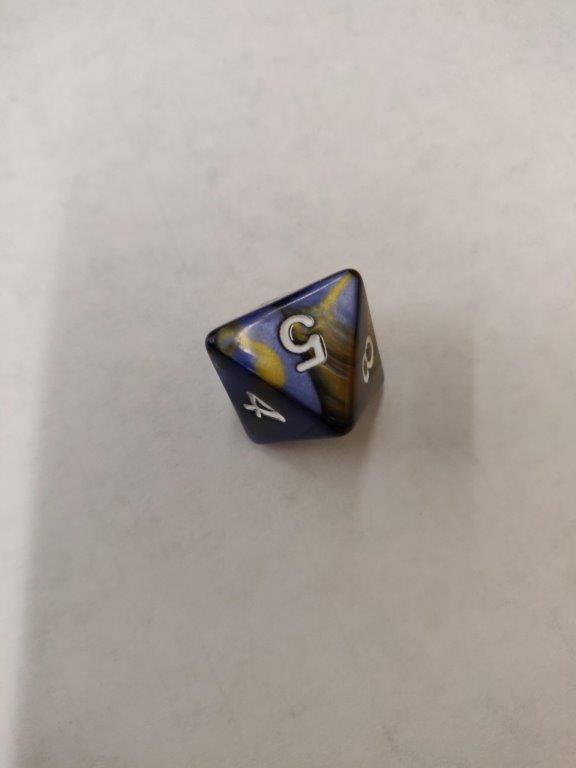d8-5: (203, 267, 386, 447)
